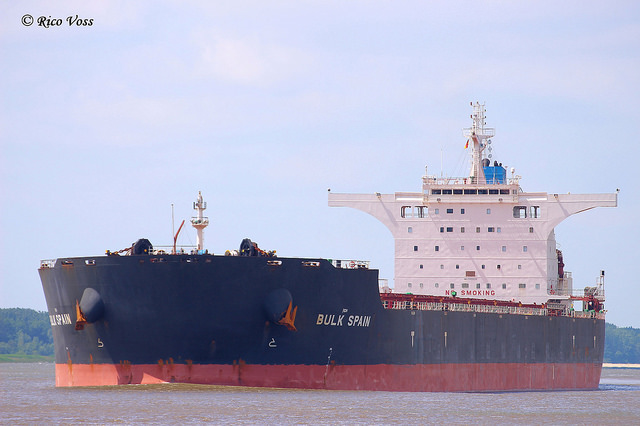bulk carrier: (38, 103, 618, 386)
